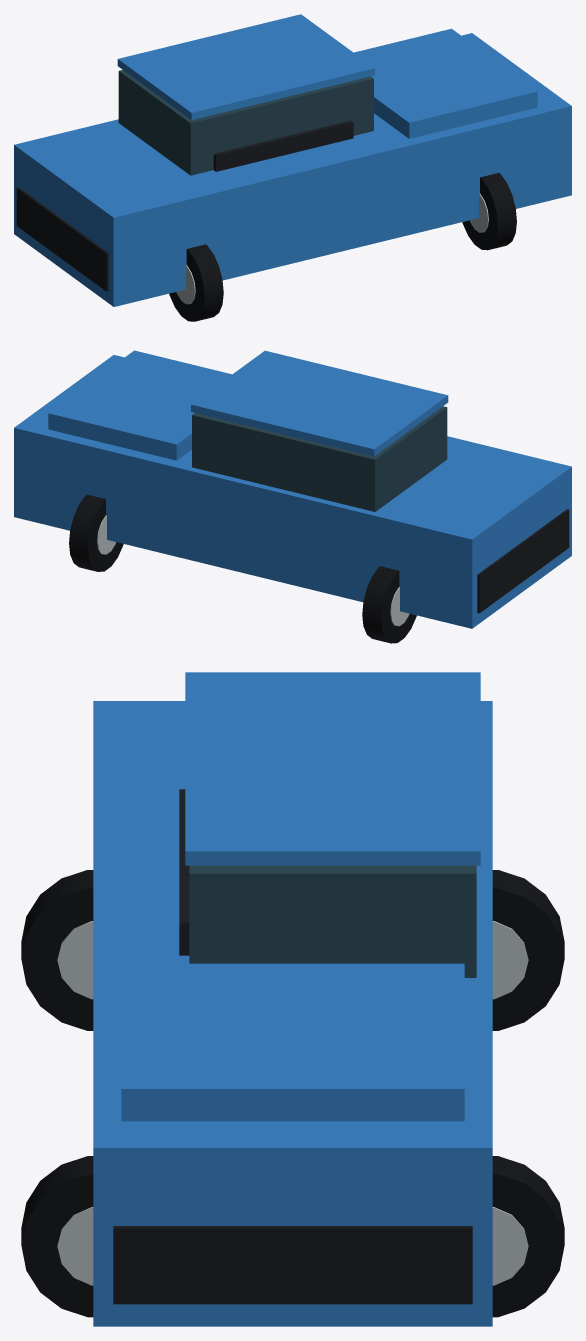
The model's file is ford_transit.glb.
The picture shows the model from 3 angles, top to bottom: view 1: azimuth 30°, elevation 25°; view 2: azimuth 150°, elevation 25°; view 3: azimuth 270°, elevation 25°; orthographic projection. The views are drawn at different scales.
Visible parts, largest first — view 1: body, roof, hood, cabin, rear_bumper, rear_right_wheel, front_right_wheel, interior; view 2: body, roof, cabin, hood, rear_bumper, rear_left_wheel, front_left_wheel; view 3: body, roof, hood, cabin, front_bumper, front_left_wheel, front_right_wheel, rear_left_wheel, rear_right_wheel, interior.
Part boxes in pixels (box(x1,y1,x2,y2)): body: box(14, 33, 571, 306); roof: box(117, 14, 374, 119); hood: box(354, 28, 537, 138); cabin: box(118, 70, 373, 175); rear_bumper: box(16, 187, 108, 291); rear_right_wheel: box(169, 244, 223, 321); front_right_wheel: box(462, 173, 516, 250); interior: box(213, 120, 353, 171); body: box(14, 355, 571, 628); roof: box(191, 350, 448, 456); cabin: box(192, 406, 447, 511); hood: box(48, 350, 231, 460); rear_bumper: box(477, 509, 569, 613); rear_left_wheel: box(362, 566, 416, 643); front_left_wheel: box(69, 494, 123, 571); body: box(93, 701, 492, 1326); roof: box(185, 672, 480, 865); hood: box(121, 963, 464, 1121); cabin: box(189, 865, 476, 977); front_bumper: box(113, 1226, 472, 1304); front_left_wheel: box(492, 1156, 564, 1317); front_right_wheel: box(21, 1156, 93, 1317); rear_left_wheel: box(492, 870, 564, 1030); rear_right_wheel: box(21, 870, 93, 1030); interior: box(179, 789, 189, 955).
Size of the model in its own units: 5.35 by 2.03 by 2.72.
